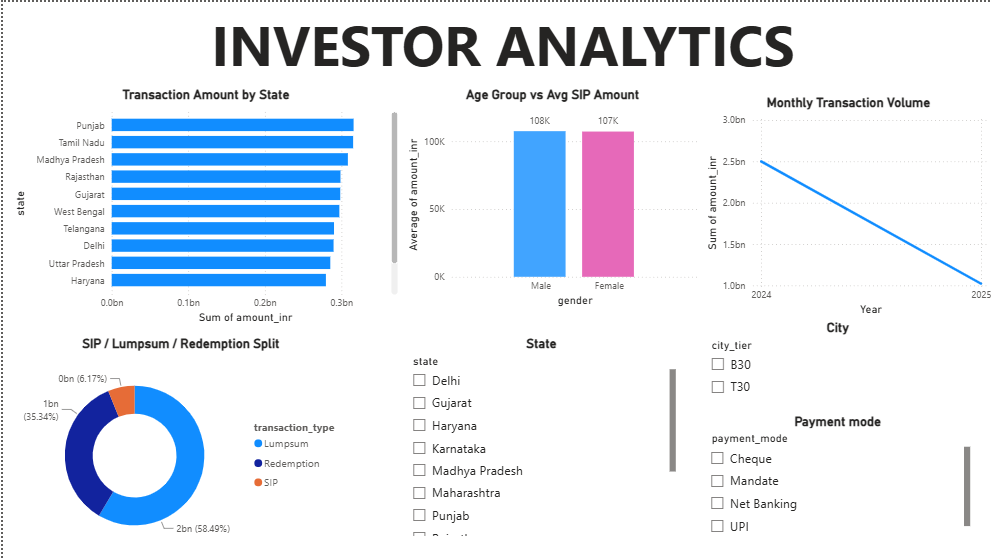

Layout of this report page (visuals, bound fields, positions):
{"tool":"powerbi","page":{"name":"Investor Analytics","canvas":[1280,720],"ordinal":2},"visuals":[{"type":"textbox","box":[9.8,0,1270.5,133.1],"z":0},{"type":"clusteredBarChart","title":"Transaction Amount by State","fields":{"Category":["08_investor_transactions.state"],"Y":["Sum(08_investor_transactions.amount_inr)"]},"box":[10.4,109.5,504.7,310.8],"z":1000},{"type":"donutChart","title":"SIP / Lumpsum / Redemption Split","fields":{"Category":["08_investor_transactions.transaction_type"],"Y":["Sum(08_investor_transactions.amount_inr)"]},"box":[10.6,430.3,436.4,290.4],"z":2000},{"type":"clusteredColumnChart","title":"Age Group vs Avg SIP Amount","fields":{"Category":["08_investor_transactions.gender"],"Y":["Avg(08_investor_transactions.amount_inr)"]},"box":[515.5,109.5,386.2,288.9],"z":3000},{"type":"lineChart","title":"Monthly Transaction Volume","fields":{"Category":["08_investor_transactions.transaction_date.Variation.Date Hierarchy.Year","08_investor_transactions.transaction_date.Variation.Date Hierarchy.Quarter","08_investor_transactions.transaction_date.Variation.Date Hierarchy.Month","08_investor_transactions.transaction_date.Variation.Date Hierarchy.Day"],"Y":["Sum(08_investor_transactions.amount_inr)"]},"box":[901.7,118.6,378.6,290.4],"z":4000},{"type":"slicer","title":"State","fields":{"Values":["08_investor_transactions.state"]},"box":[515.5,430.3,357.3,263.1],"z":5000},{"type":"slicer","title":"City","fields":{"Values":["08_investor_transactions.city_tier"]},"box":[901.7,409,351.2,121.6],"z":6000},{"type":"slicer","title":"Payment mode","fields":{"Values":["08_investor_transactions.payment_mode"]},"box":[901.7,530.7,351.2,162.7],"z":7000}]}

Visuals, with their boxes in screenshot pixels (x1, y1, x2, y2), scaled from the page's 1280x720 canvas onto the 992x558 screenshot:
textbox: [8, 0, 991, 103]
"Transaction Amount by State" clusteredBarChart: [8, 85, 399, 326]
"SIP / Lumpsum / Redemption Split" donutChart: [8, 333, 346, 557]
"Age Group vs Avg SIP Amount" clusteredColumnChart: [400, 85, 699, 309]
"Monthly Transaction Volume" lineChart: [699, 92, 991, 317]
"State" slicer: [400, 333, 676, 537]
"City" slicer: [699, 317, 971, 411]
"Payment mode" slicer: [699, 411, 971, 537]
